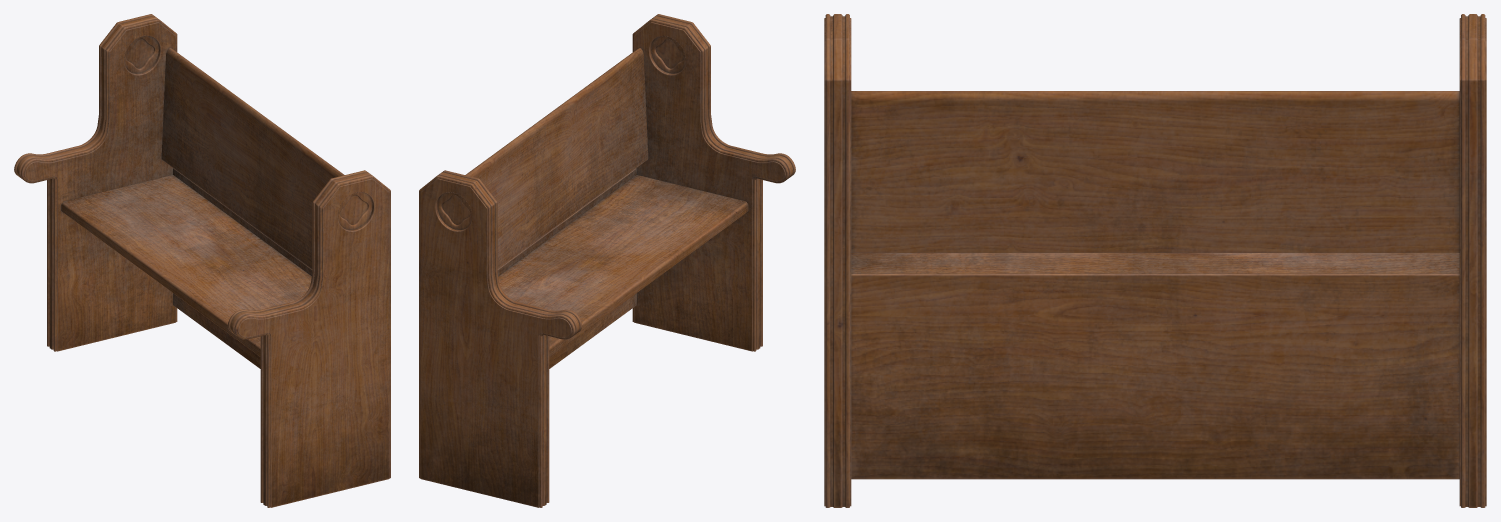
File: SM_ChurchSeat.fbx
3 renders of one model, left to right at view 1: azimuth 30°, elevation 25°; view 2: azimuth 150°, elevation 25°; view 3: azimuth 270°, elevation 25°, orthographic. The views are drawn at different scales.
Visible parts, largest first — view 1: SM_ChurchSeat_LOD0; view 2: SM_ChurchSeat_LOD0; view 3: SM_ChurchSeat_LOD0.
Boxes of the visible parts, box(x1,y1,x2,y2) form: SM_ChurchSeat_LOD0: box(14, 14, 390, 507); SM_ChurchSeat_LOD0: box(419, 14, 795, 507); SM_ChurchSeat_LOD0: box(824, 14, 1486, 507).
Size of the model in its own units: 65.85 by 163 by 124.
Materials: 1 (1 with a texture image).
